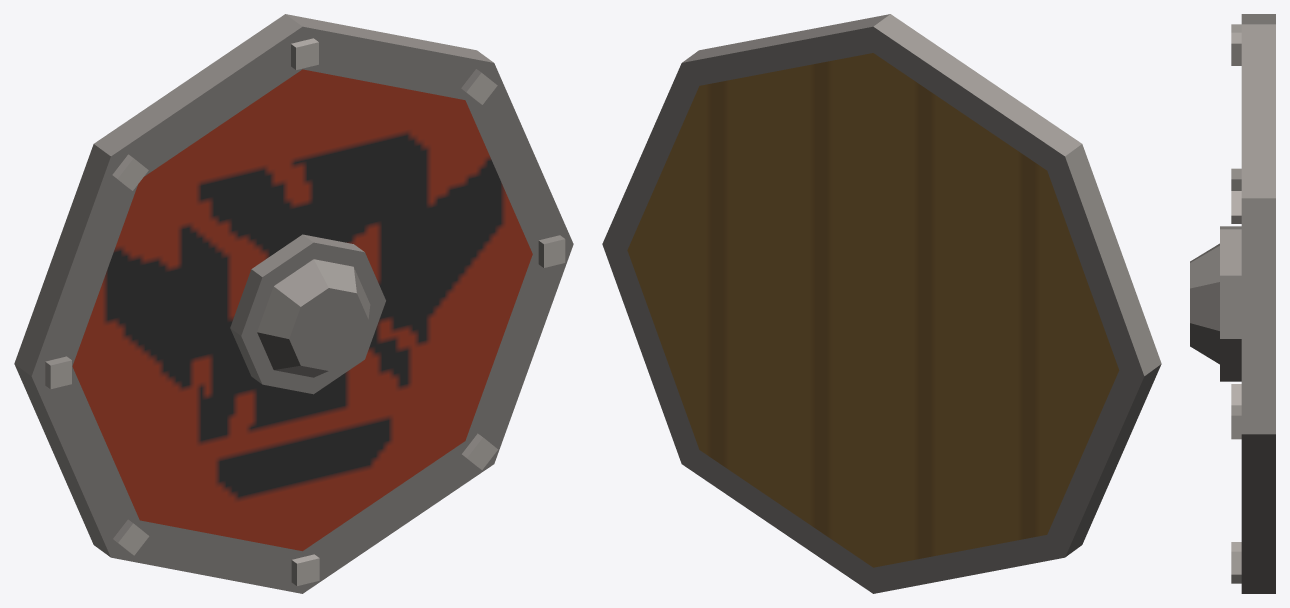
The model's file is SF_Wep_RoundShield_Symbol_04.fbx.
3 renders of one model, left to right at view 1: azimuth 30°, elevation 25°; view 2: azimuth 150°, elevation 25°; view 3: azimuth 270°, elevation 25°, orthographic.
Visible parts, largest first — view 1: SF_Wep_RoundShield_Symbol_04; view 2: SF_Wep_RoundShield_Symbol_04; view 3: SF_Wep_RoundShield_Symbol_04.
Boxes of the visible parts, x1,y1,x2,y2 form: SF_Wep_RoundShield_Symbol_04: (14,14,573,593); SF_Wep_RoundShield_Symbol_04: (602,14,1161,593); SF_Wep_RoundShield_Symbol_04: (1190,14,1275,593).
Bounding box in the file's own units: 1.4 × 1.4 × 0.1946.
